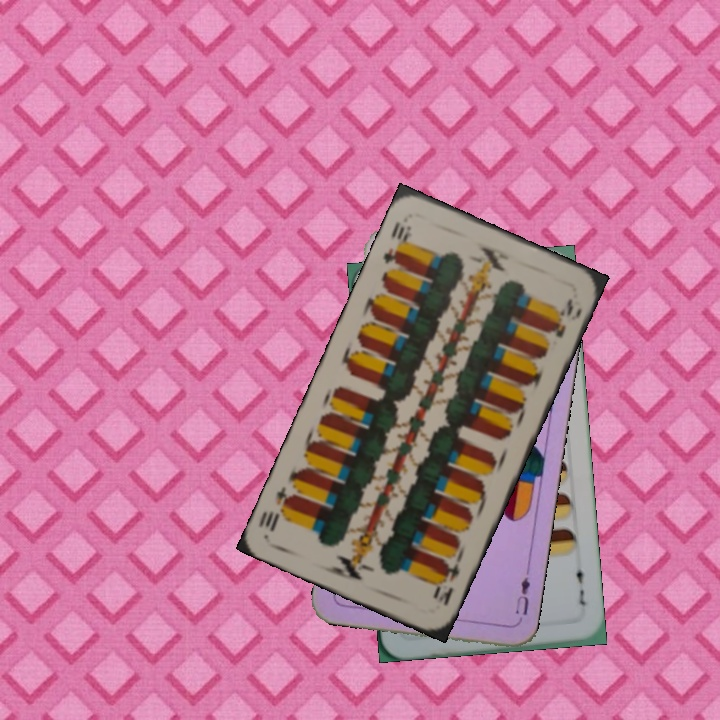E10: (428, 554, 463, 609), (379, 217, 415, 268)
E7: (572, 560, 588, 608)
EU: (511, 573, 533, 626)
